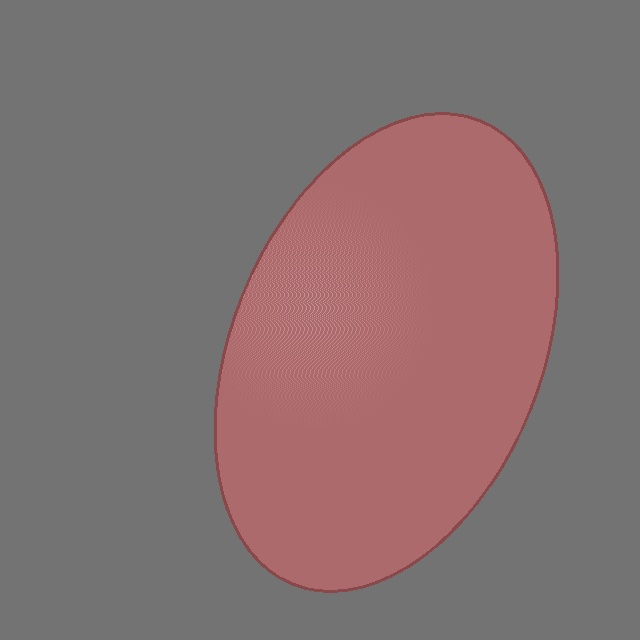lens: (215, 113, 557, 591)
